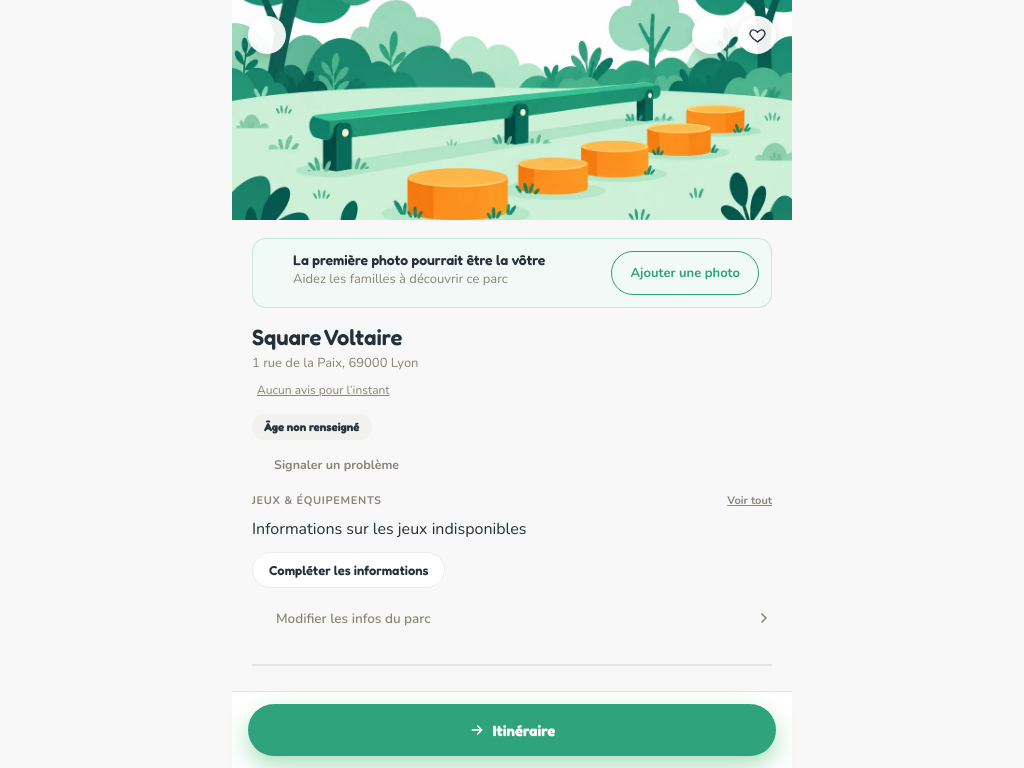
Test: ParkDetail — Itinéraire CTA › Annuler: closes the sheet, navigates nowhere, no visit prompt
Click the button "Itinéraire" at (512, 730), box [248,704,776,756]
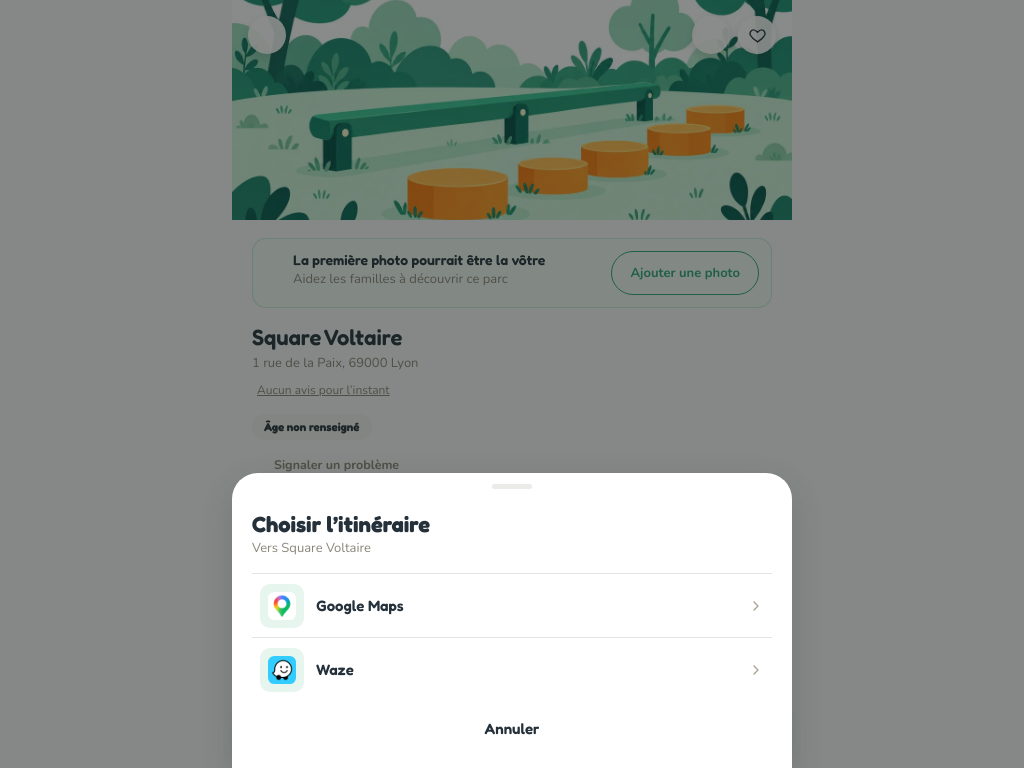
Click the button "Annuler" at (512, 729), box [252,709,772,748]
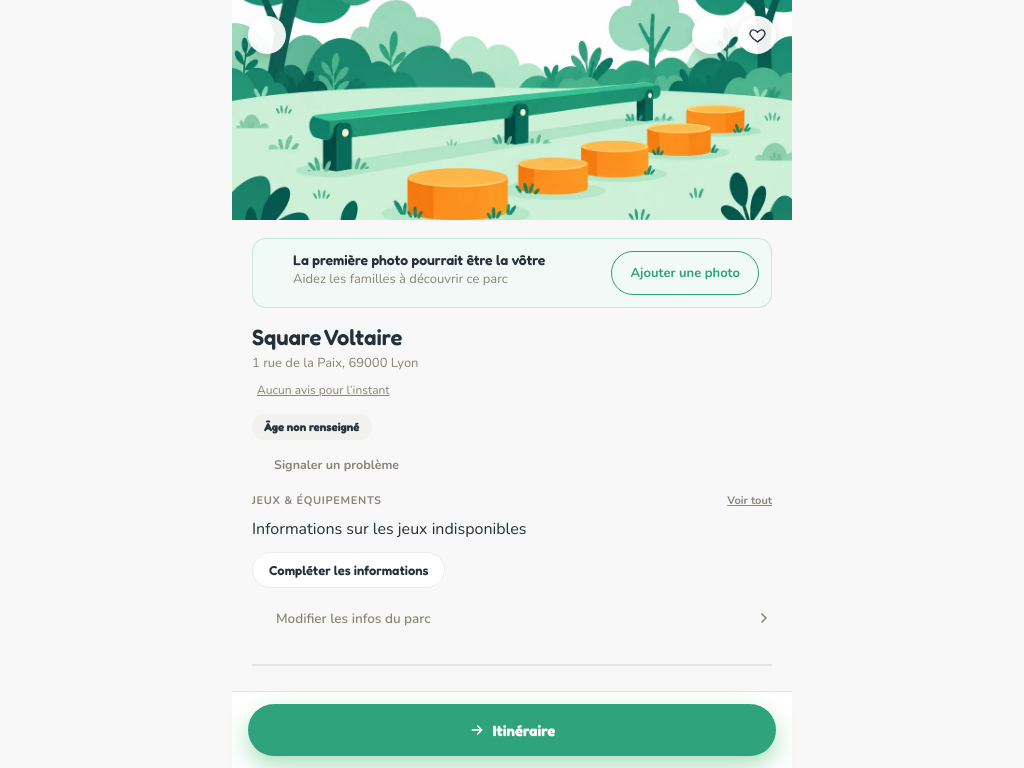
Expected: the text "Choisir l’itinéraire" is gone
